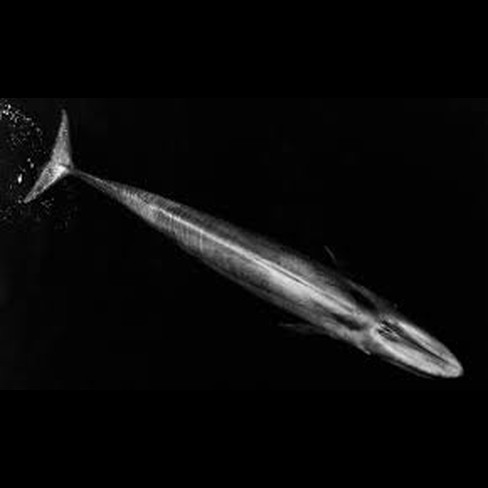bluewhale: (12, 109, 467, 385)
